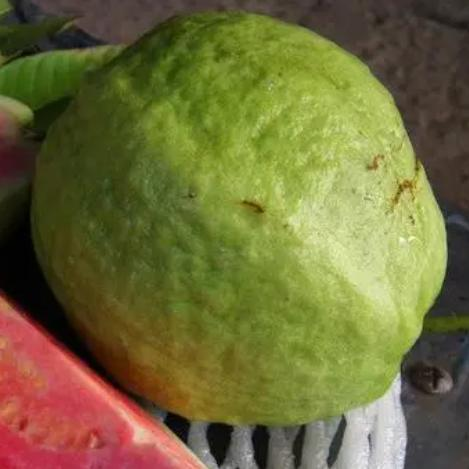guava_B: (28, 10, 447, 426)
